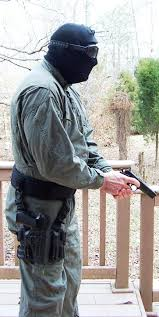Gun: (124, 170, 157, 200)
